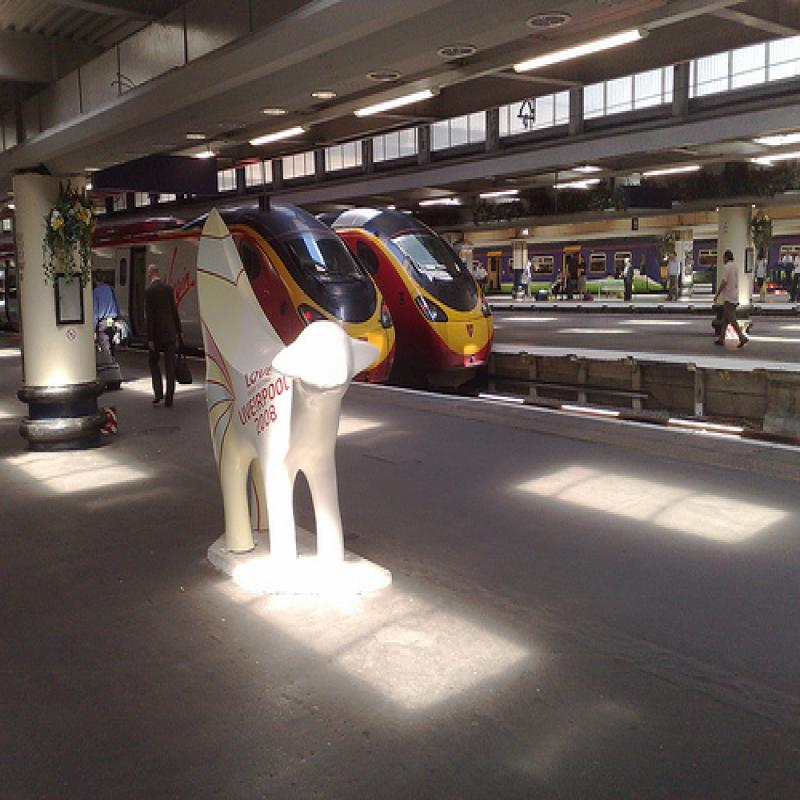train: (3, 202, 398, 389), (318, 210, 499, 400), (460, 227, 800, 319)
